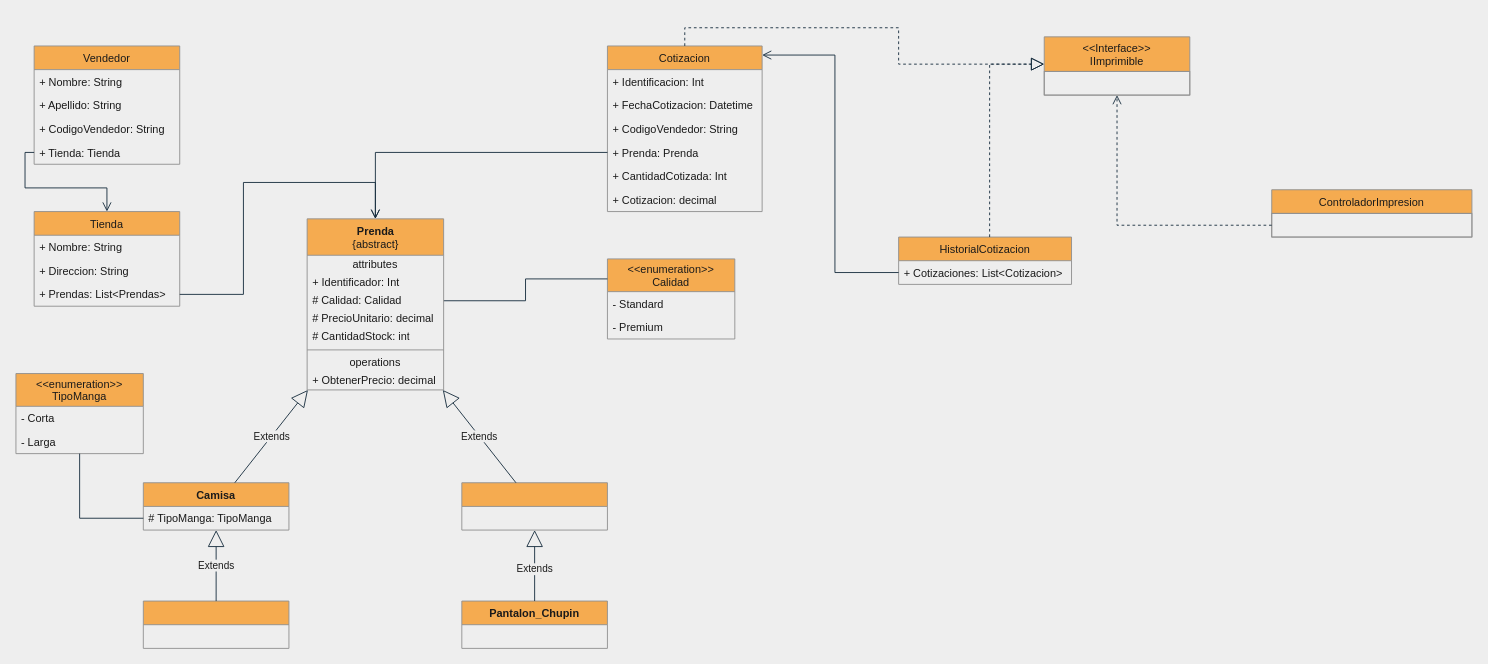
The diagram is 1488 pixels wide and 664 high, and some of its shapes have lost their labels. Each missing label, with the centre of its shape:
"+ GenerarImpresion(): string" goes at (x=1116, y=83).
"+ GenerarImpresion(IImprimibles): void" goes at (x=1371, y=224).
"Camisa_CuelloMao" goes at (x=215, y=624).
"Pantalon" goes at (x=534, y=506).
